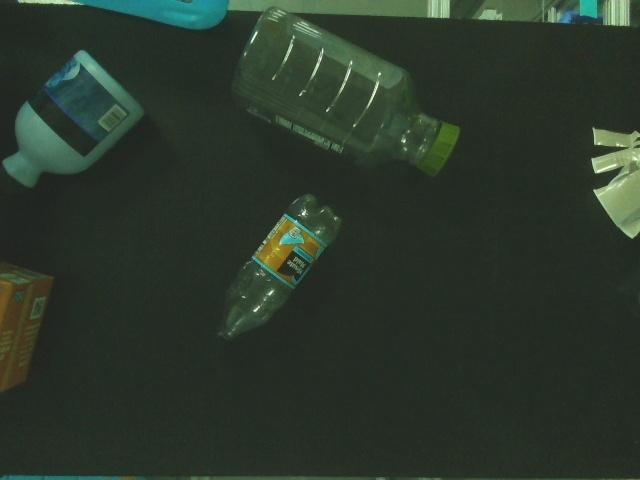cardboard: (1, 255, 56, 396)
plastic: (227, 5, 462, 180), (206, 192, 344, 354), (0, 46, 145, 196), (591, 125, 640, 240)
